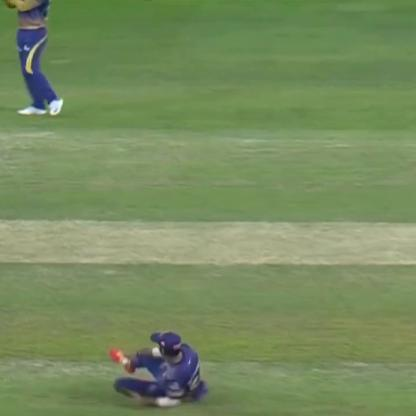ball: (115, 352, 133, 368)
